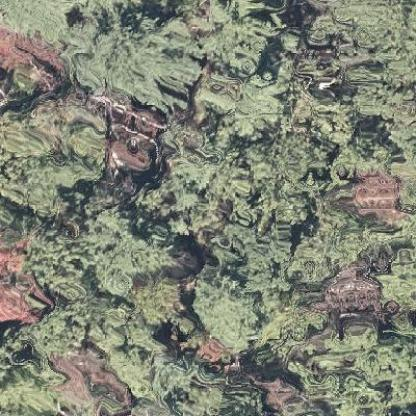tree-top: (0, 94, 104, 216), (200, 64, 285, 138), (188, 276, 264, 352), (320, 264, 388, 315)
